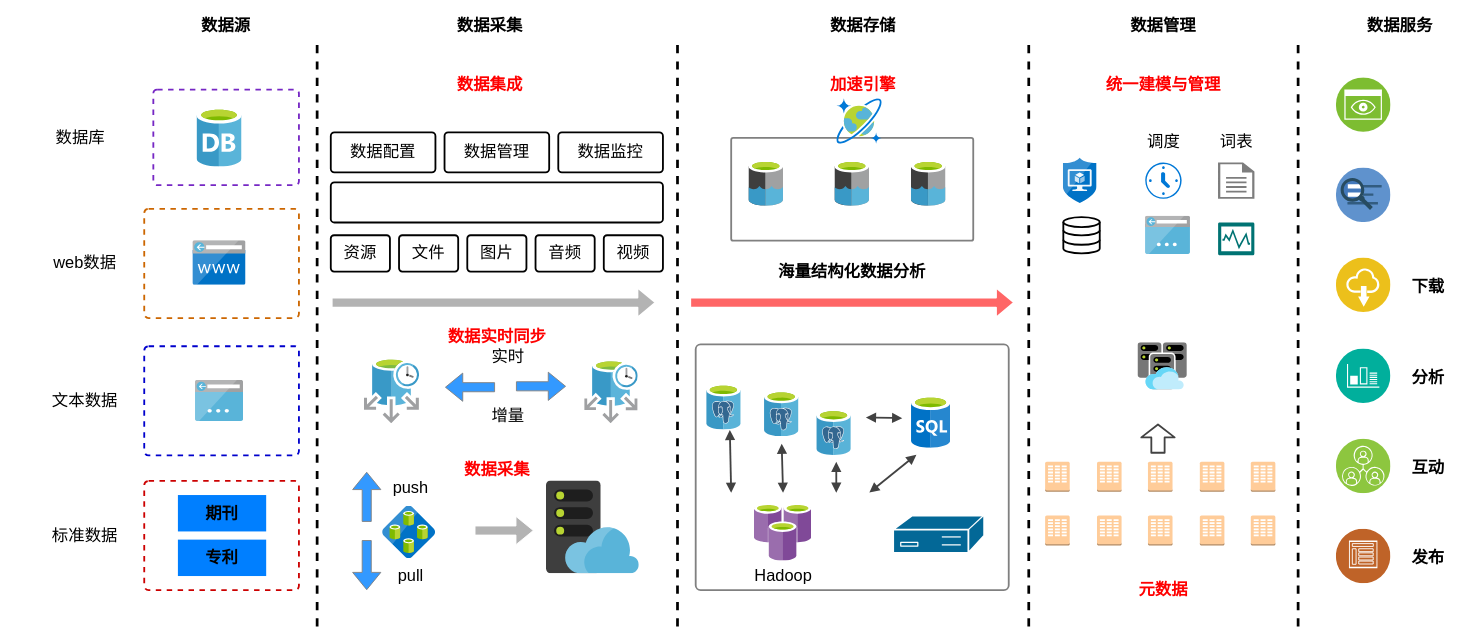
Some shapes in this 1459 by 644 pixel diagram are drawn without their labels. The centre of each missing label's shape, as x and y in pixels:
"Cluster Manager" goes at point 938,533.
"Data Studio" goes at point 1080,180.
"NoSQL" goes at point 781,413.
"元数据 仓库" goes at point 1081,235.
"可视化操作" goes at point 496,202.
"挖掘模型" goes at point 1162,365.
"日志" goes at point 1167,235.
"检索" goes at point 1363,194.
"浏览" goes at point 1363,104.
"监控" goes at point 1236,238.
